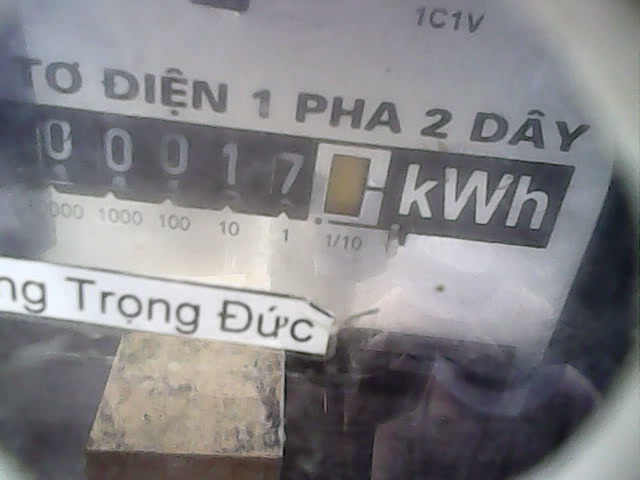phy_plate: (28, 102, 401, 247)
